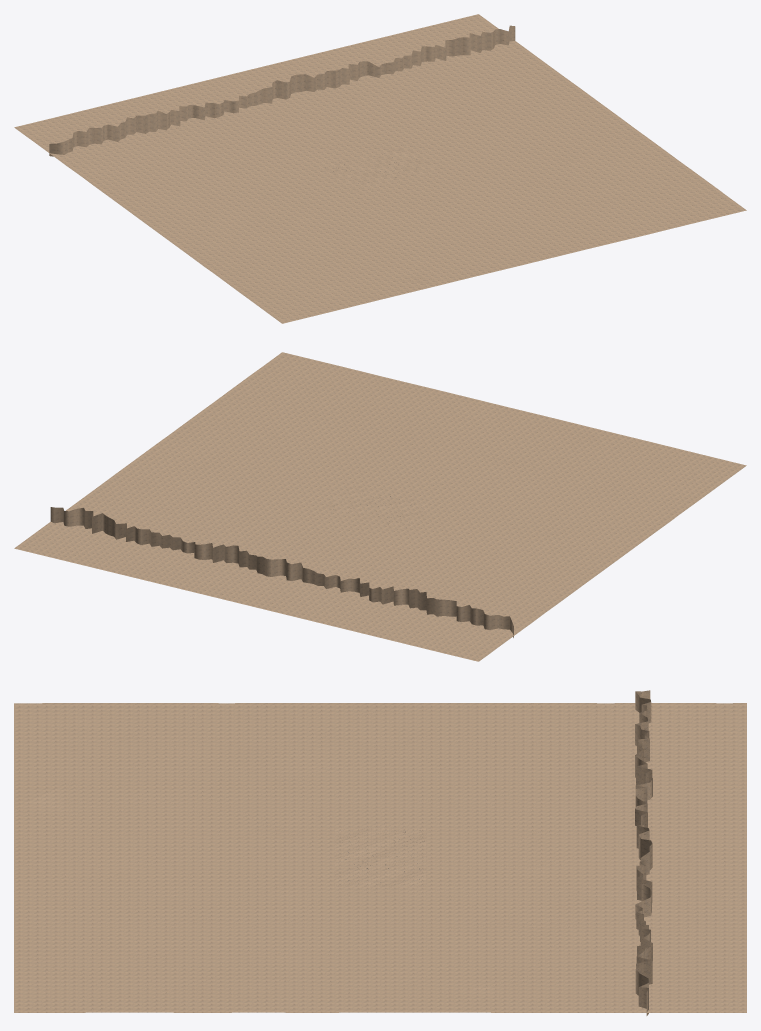
The model's file is ground.glb.
The picture shows the model from 3 angles, top to bottom: view 1: azimuth 30°, elevation 25°; view 2: azimuth 150°, elevation 25°; view 3: azimuth 270°, elevation 25°; orthographic projection. The views are drawn at different scales.
Visible parts, largest first — view 1: ground; view 2: ground; view 3: ground.
Boxes of the visible parts, x1,y1,x2,y2 form: ground: (14,14,746,323); ground: (14,352,746,661); ground: (14,690,746,1015).
Bounding box in the file's own units: 320 × 14.14 × 320.
Materials: 3 (1 with a texture image).
